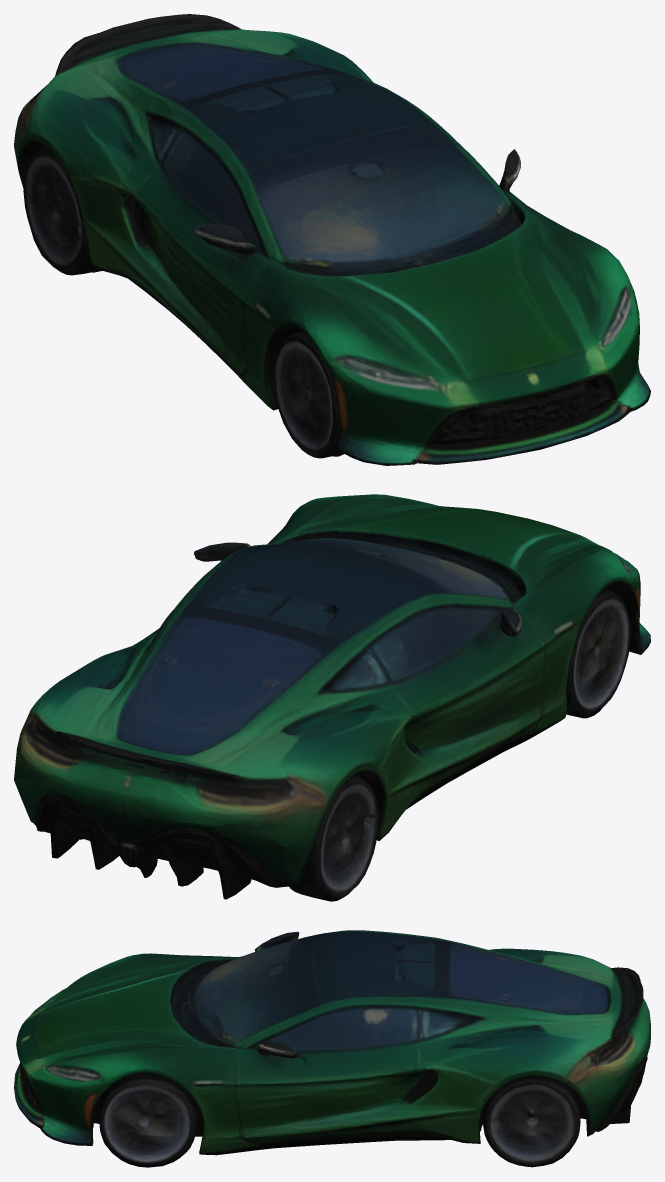
3 renders of one model, top to bottom at view 1: azimuth 30°, elevation 25°; view 2: azimuth 150°, elevation 25°; view 3: azimuth 270°, elevation 25°, orthographic. The views are drawn at different scales.
Parts seen in each view (by area): view 1: world; view 2: world; view 3: world.
Boxes of the visible parts, x1=… form: world: x1=14, y1=14, x2=650, y2=465; world: x1=14, y1=494, x2=650, y2=901; world: x1=14, y1=930, x2=650, y2=1167.
Bounding box in the file's own units: 0.4478 × 0.2719 × 1.
Materials: 1 (1 with a texture image).
